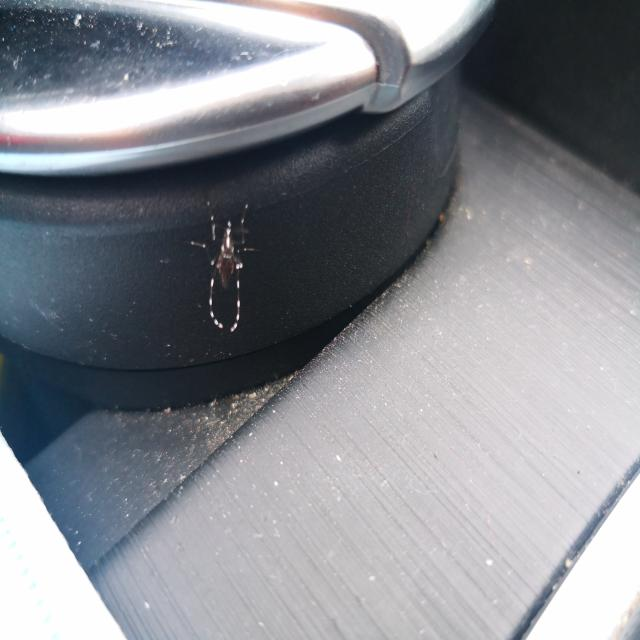albopictus: (173, 193, 269, 331)
